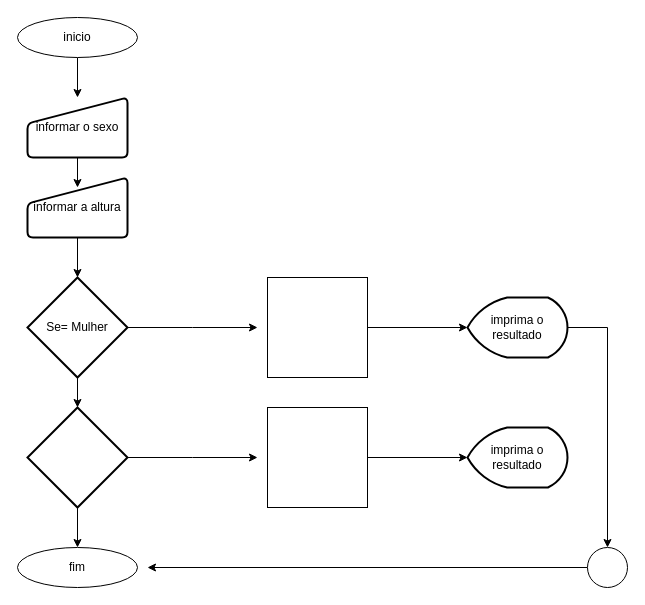
This 645x605 diagram has some shape labels left out. The centre of each missing label's shape, as x and y in pixels:
"peso ideal =* 72.7* altura- 58" goes at [317,457].
"peso ideal =*62.1*altura - 44.7" goes at [317,327].
"Se= Homem" goes at [77,457].
